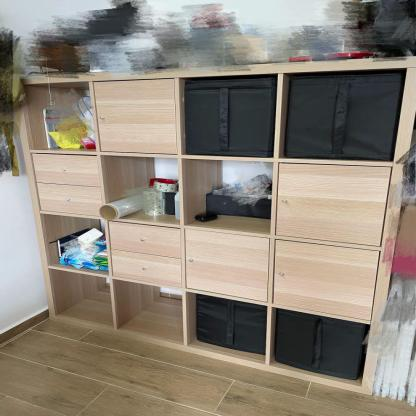lamp: (13, 54, 415, 400)
